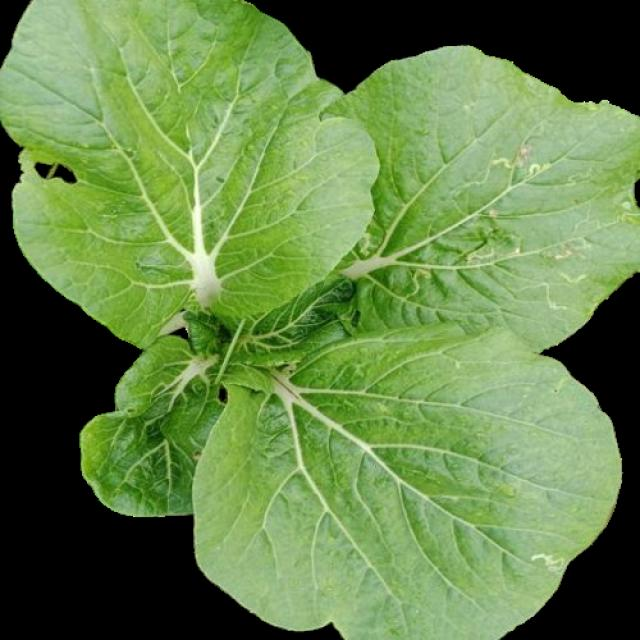mature: (2, 2, 640, 638)
unhealthy: (196, 327, 622, 640), (2, 5, 368, 339), (345, 48, 640, 325)
